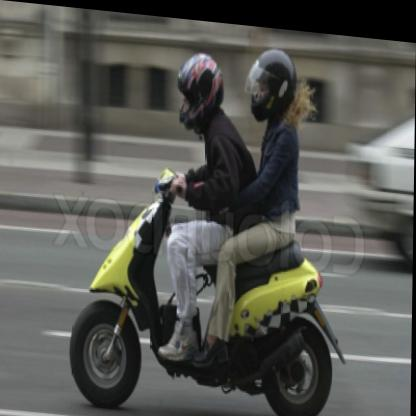With Helmet: (175, 44, 223, 132)
